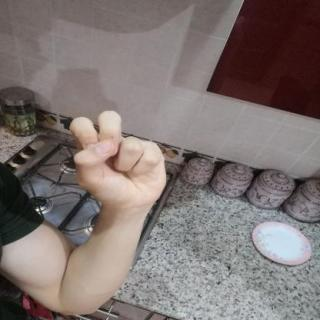QAAF: (58, 105, 176, 217)
